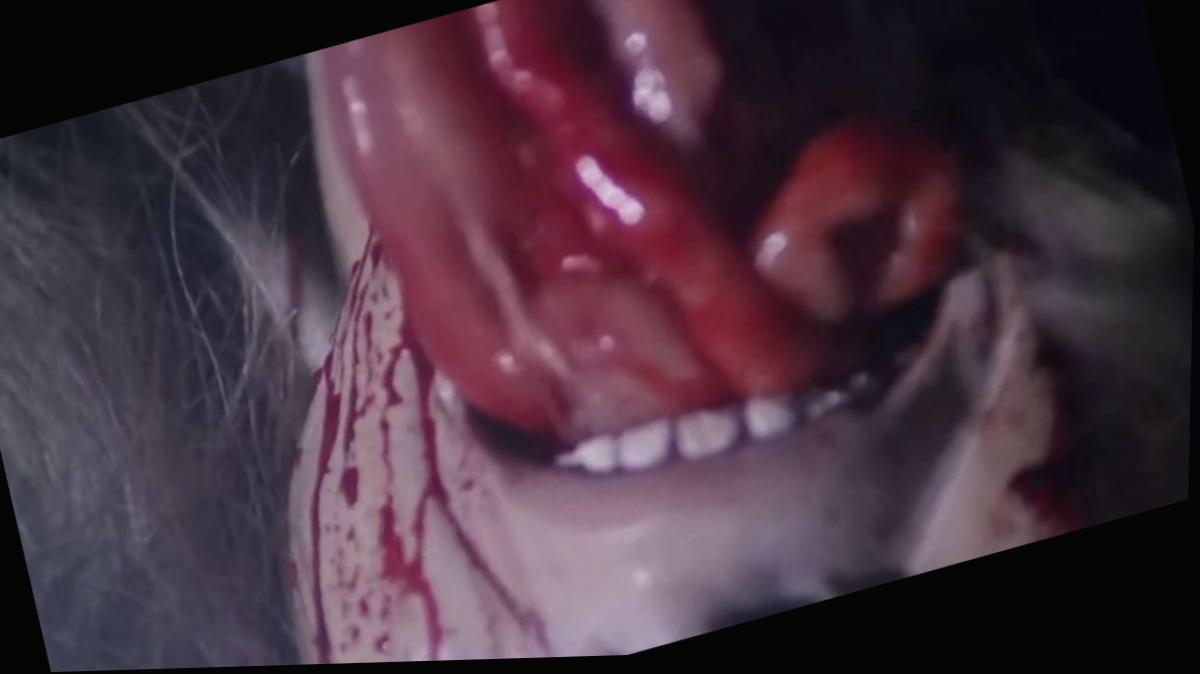Fire: (291, 242, 554, 667), (1016, 351, 1095, 543)
